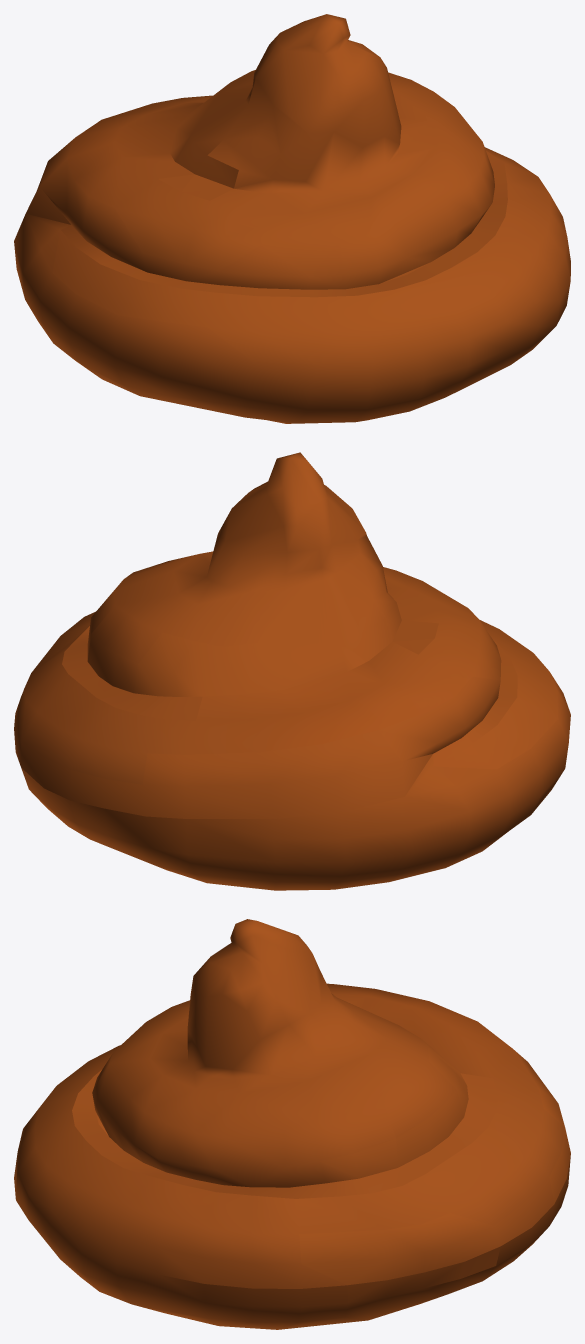
The model's file is Poop.fbx.
3 views of the same model, one above another, from view 1: azimuth 30°, elevation 25°; view 2: azimuth 150°, elevation 25°; view 3: azimuth 270°, elevation 25° (orthographic).
Parts seen in each view (by area): view 1: Poop; view 2: Poop; view 3: Poop.
Boxes of the visible parts, x1,y1,x2,y2 form: Poop: [14, 14, 570, 423]; Poop: [14, 452, 570, 890]; Poop: [14, 919, 570, 1329].
Size of the model in its own units: 4.67 by 3.16 by 4.76.
1 material, 1 textured.
